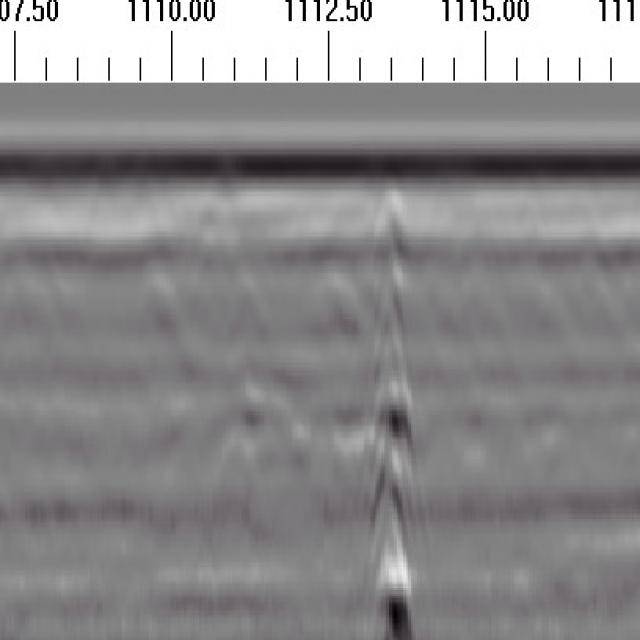crack: (368, 193, 417, 639)
